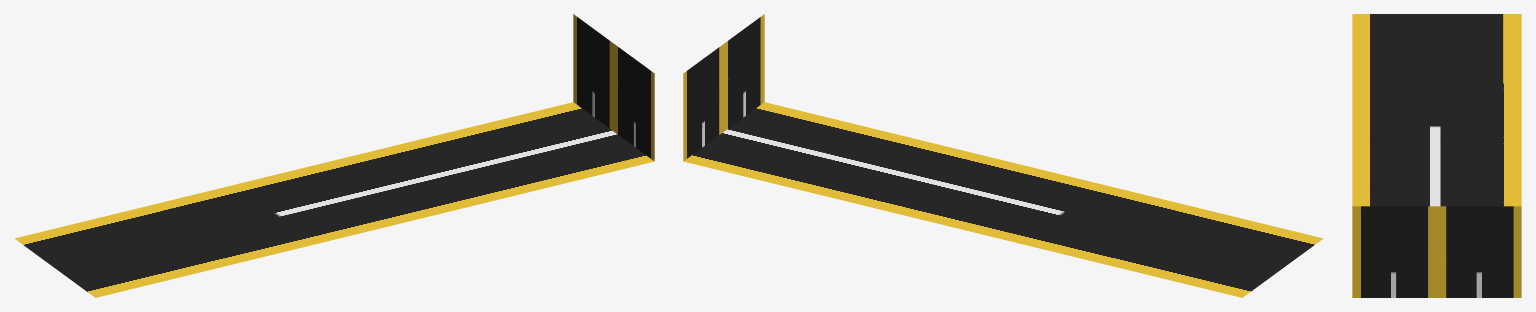
File: Road.fbx
3 renders of one model, left to right at view 1: azimuth 30°, elevation 25°; view 2: azimuth 150°, elevation 25°; view 3: azimuth 270°, elevation 25°, orthographic. The views are drawn at different scales.
Parts seen in each view (by area): view 1: Plane.009; view 2: Plane.009; view 3: Plane.009.
Part boxes in pixels (x1,y1,x2,y2): Plane.009: [14, 14, 654, 297]; Plane.009: [683, 14, 1323, 297]; Plane.009: [1352, 14, 1521, 297].
Size of the model in its own units: 1460 by 220 by 368.
